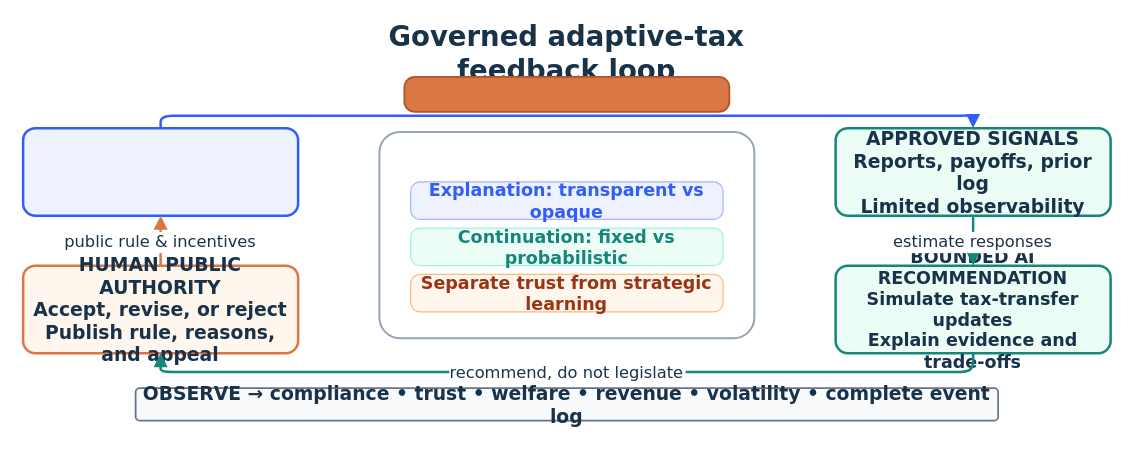
Image size: 1133x449. Some labels were removed from this diagram. The shapes that lost their labels are listed below. From the top down, each one's box as (x1, y1, x2, y2) in pixels, then its label:
(403, 75, 730, 112): AI recommends • humans authorize
(21, 126, 299, 216): HOUSEHOLDS & FIRMS Choose Comply or Avoid Private effort and motives
(378, 130, 755, 338): EXPERIMENTAL STRESS TEST
